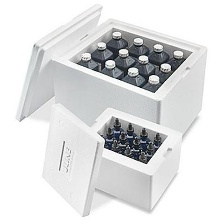foam_box: (9, 0, 211, 141), (37, 99, 186, 220)
